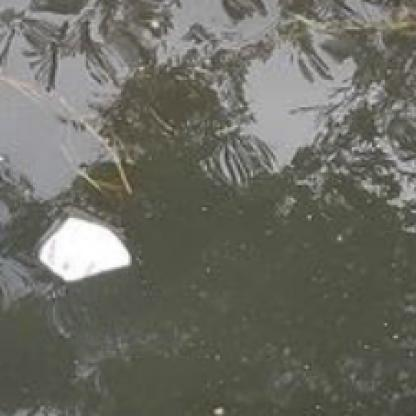Trash: (34, 210, 136, 296)
